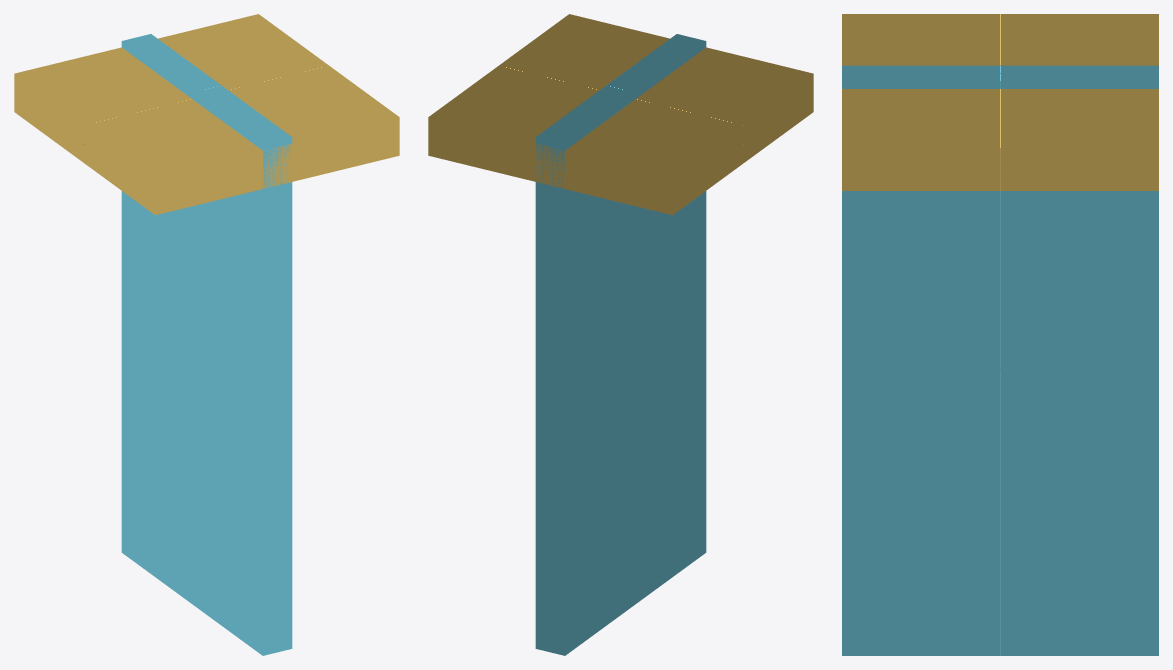
Rendered from cross_section_props.glb.
3 renders of one model, left to right at view 1: azimuth 30°, elevation 25°; view 2: azimuth 150°, elevation 25°; view 3: azimuth 270°, elevation 25°, orthographic. The views are drawn at different scales.
Parts seen in each view (by area): view 1: IBeamSection, TopFlange; view 2: IBeamSection, TopFlange; view 3: IBeamSection, TopFlange.
Boxes of the visible parts, x1=… form: IBeamSection: x1=121, y1=34, x2=292, y2=655; TopFlange: x1=14, y1=14, x2=399, y2=215; IBeamSection: x1=535, y1=34, x2=706, y2=655; TopFlange: x1=428, y1=14, x2=813, y2=215; IBeamSection: x1=842, y1=65, x2=1158, y2=655; TopFlange: x1=842, y1=14, x2=1158, y2=190.
Size of the model in its own units: 1 by 2 by 1.
